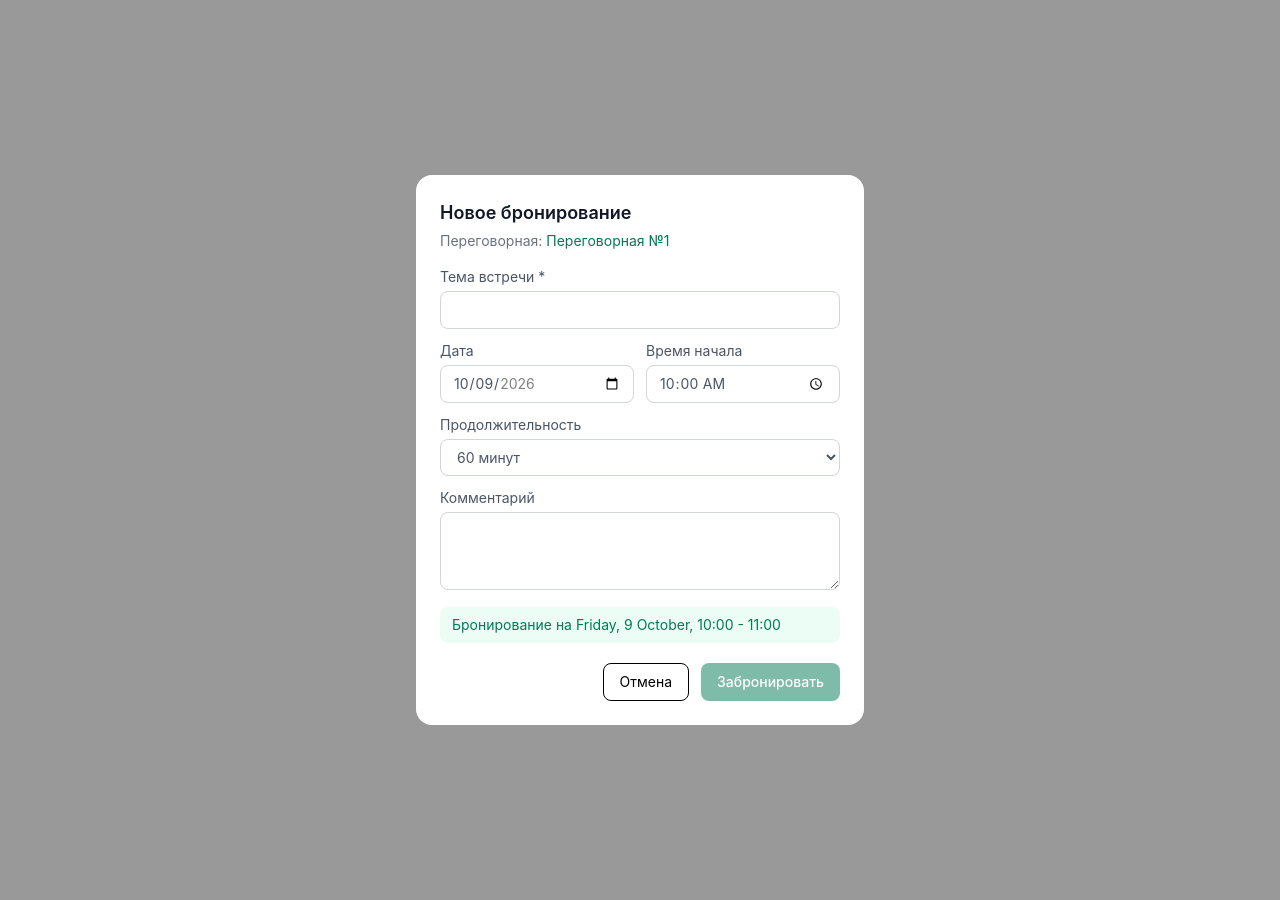
Test: BookingModal › кнопка бронирования становится активной после ввода названия
Type "Планирование спринта" into the field labelled "Тема встречи *" at coordinates (640, 310), box [440, 291, 840, 329]
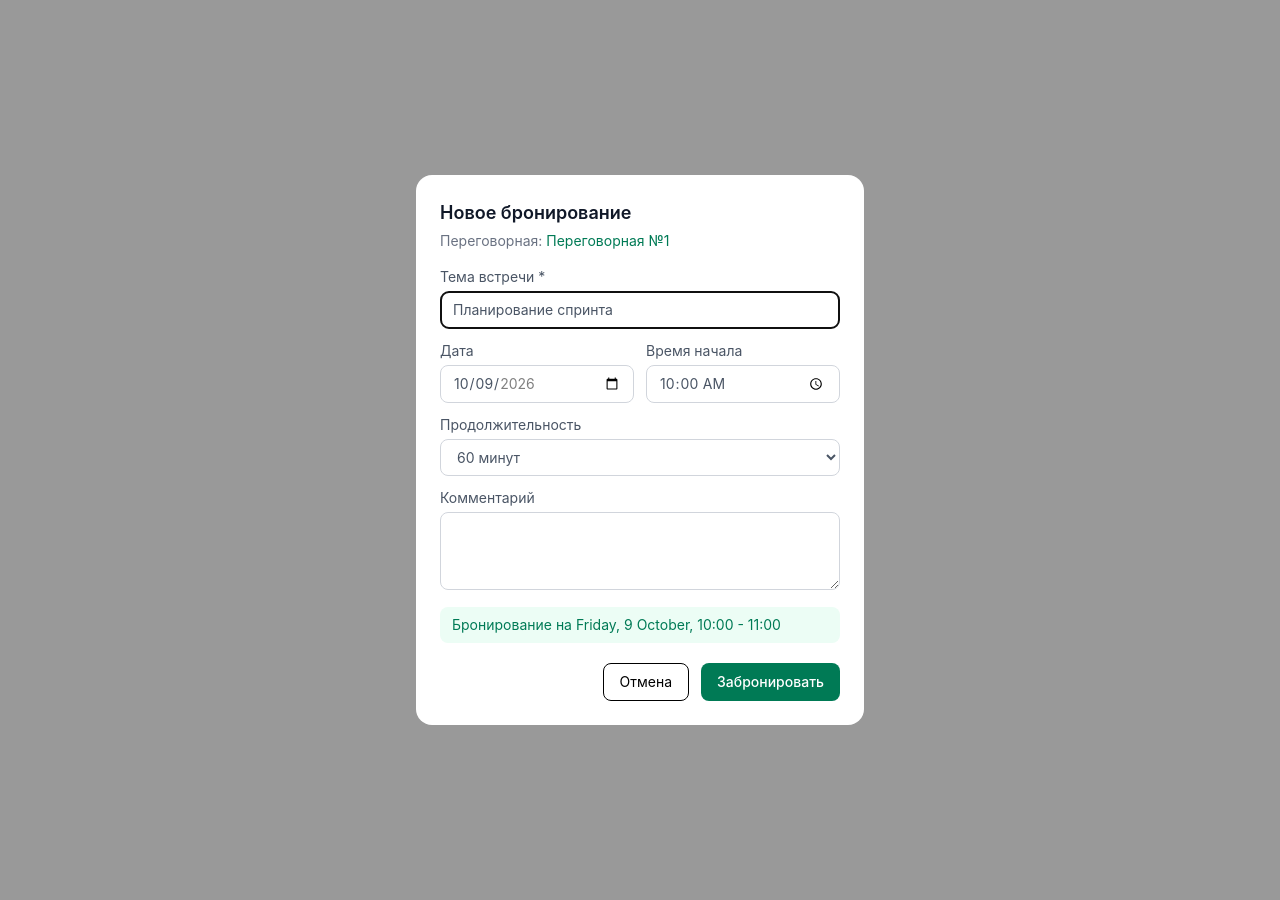
Expected: the button "Забронировать" is enabled, [701, 663, 840, 701]
